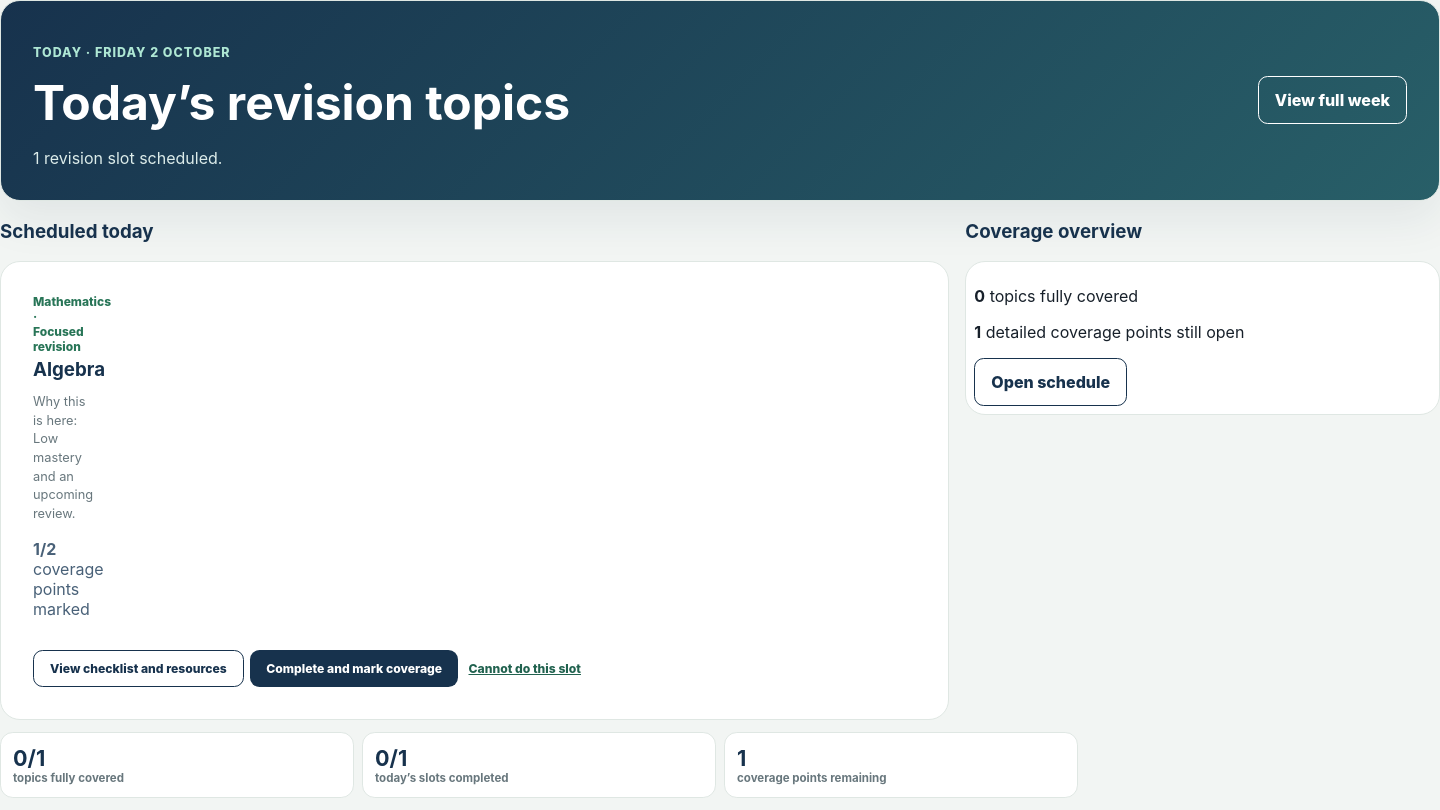
Test case: Phase 5 student experience › shows today’s scheduled topic and opens the coverage journey
This screenshot has width=1440, height=810.
Expected: the heading "Today’s revision topics" is shown, [33,73,570,132]
Expected: the text "Why this is here: Low mastery and an upcoming review." is shown, [33,393,89,523]
Step 1. Click the button "Complete and mark coverage" → (354, 668), box [250,650,458,687]
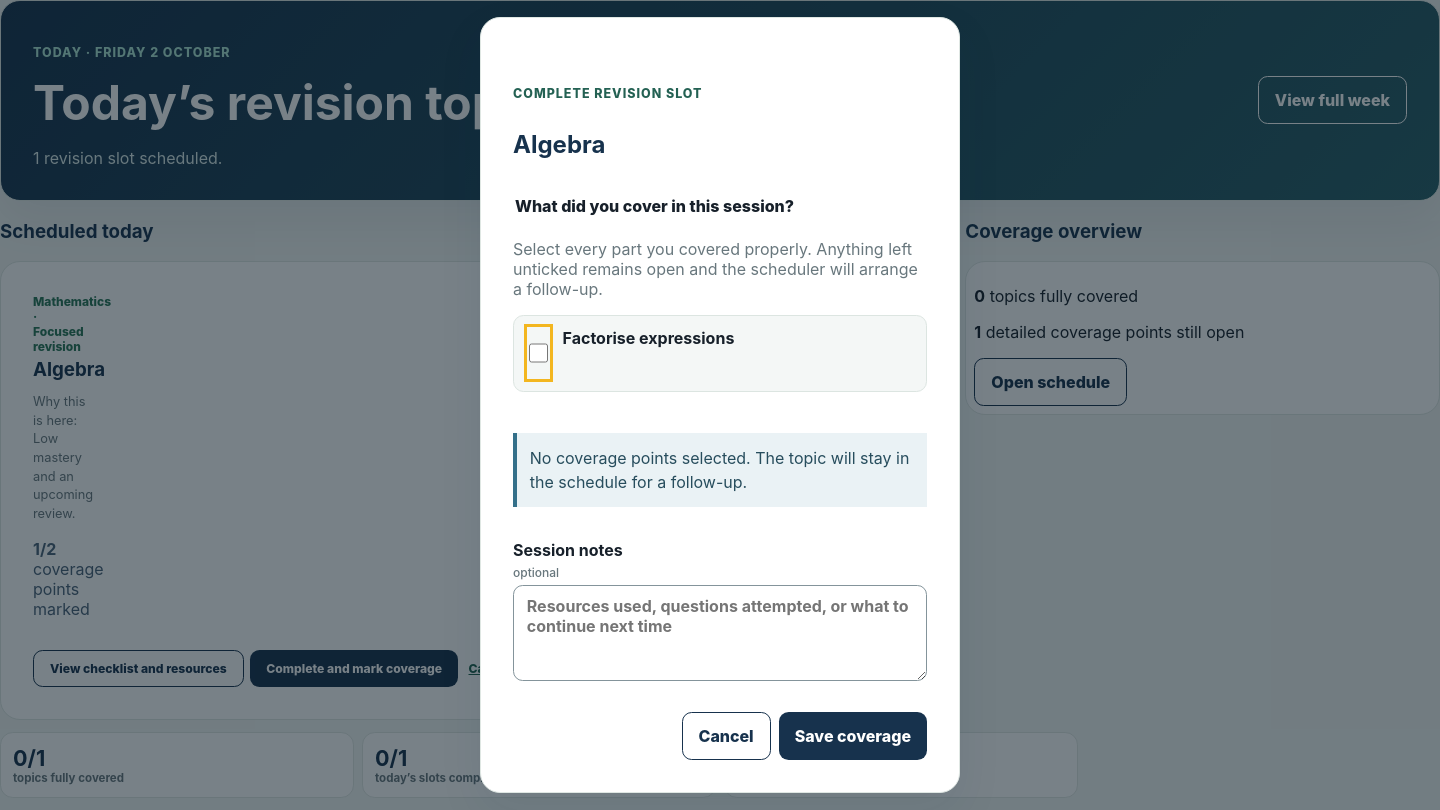
Expected: the text "What did you cover in this session?" is shown, [513,196,796,216]
Expected: the checkbox labelled "Factorise expressions" is shown, [529,329,548,377]
